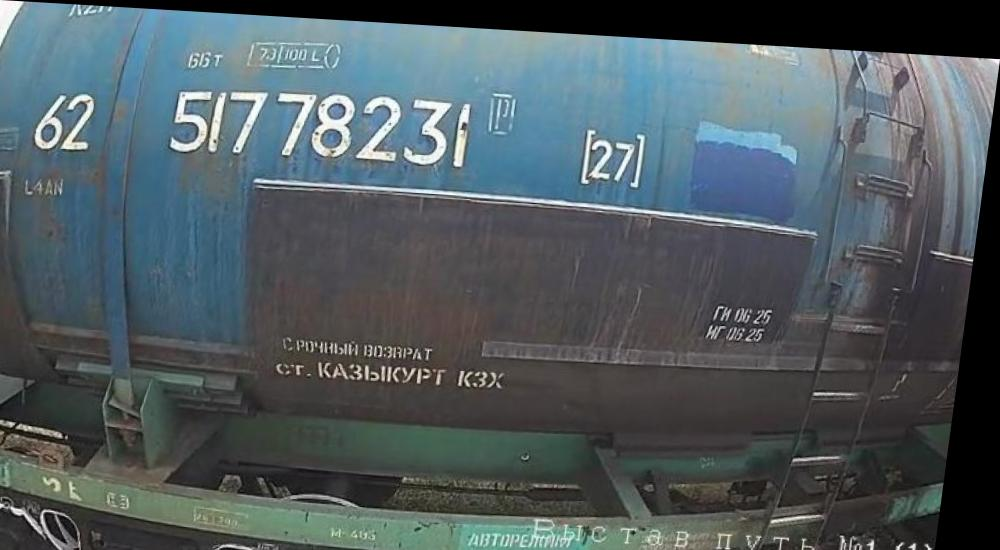Wagon-number: (171, 78, 483, 164)
